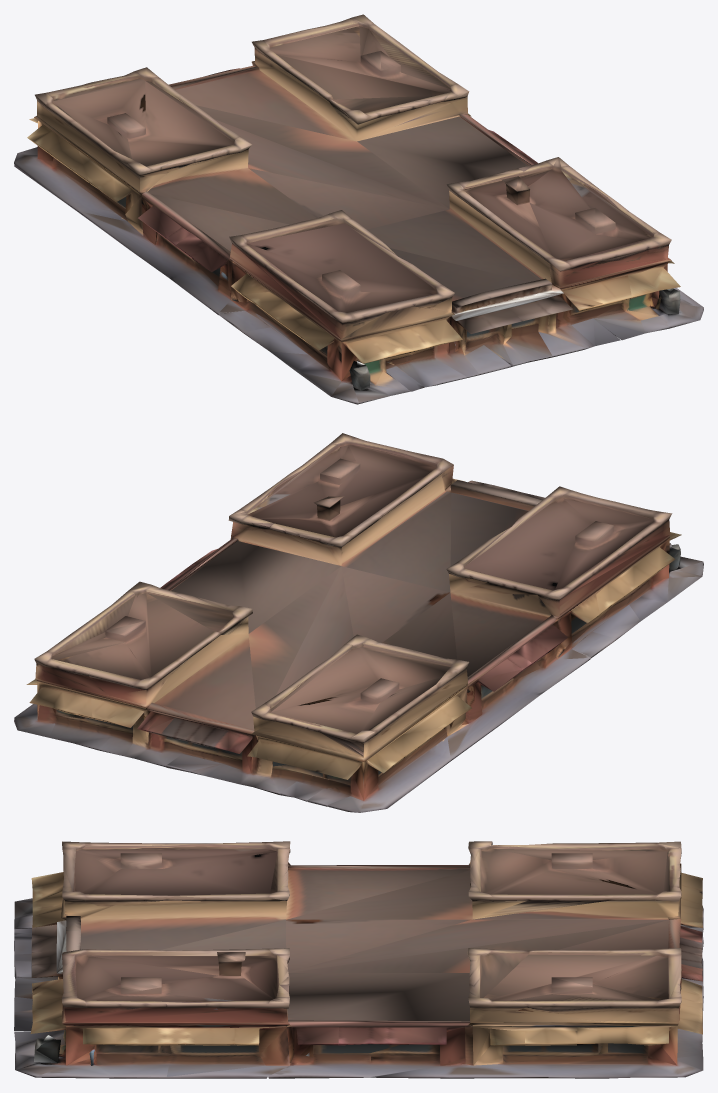
Rendered from BD_SunsetLaBrea.fbx.
3 renders of one model, top to bottom at view 1: azimuth 30°, elevation 25°; view 2: azimuth 150°, elevation 25°; view 3: azimuth 270°, elevation 25°, orthographic.
Parts seen in each view (by area): view 1: model; view 2: model; view 3: model.
Part boxes in pixels (left/top/right/bottom): model: left=14, top=14, right=703, bottom=404; model: left=14, top=433, right=703, bottom=812; model: left=14, top=841, right=703, bottom=1078.
Size of the model in its own units: 50 by 80 by 10.
Materials: 1 (1 with a texture image).
